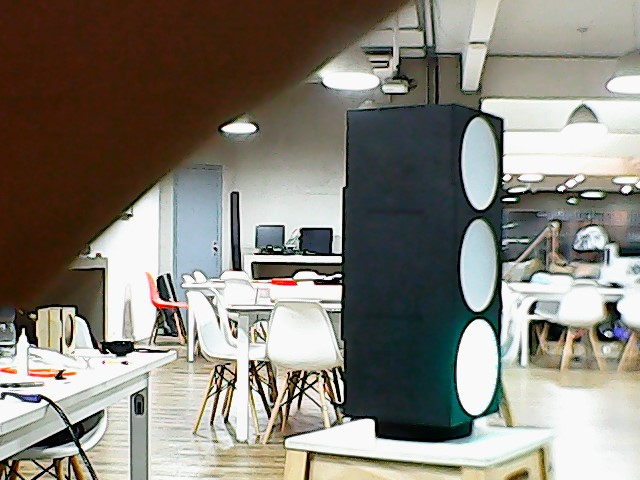verde: (336, 106, 510, 419)
